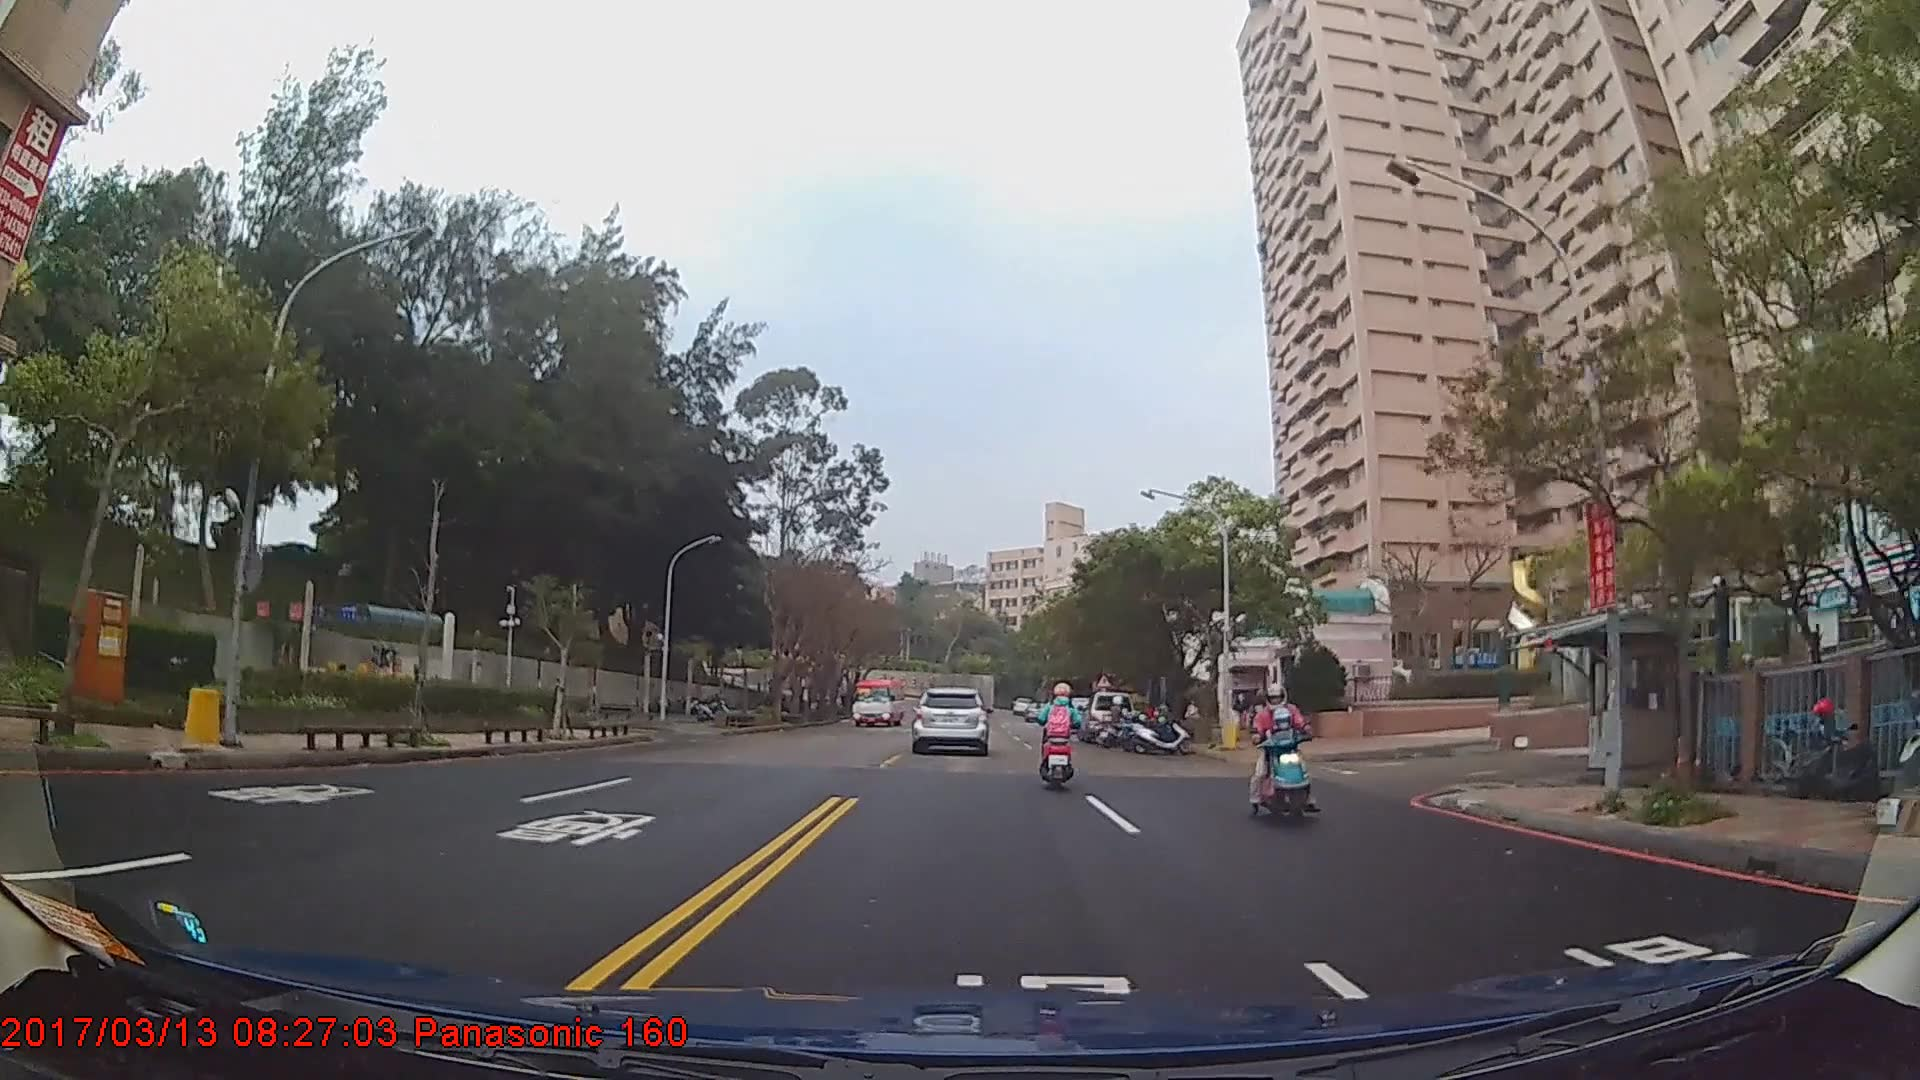rider: (1250, 686, 1317, 831), (1036, 673, 1080, 799), (1099, 696, 1136, 747)
vehicle: (910, 681, 988, 757), (849, 674, 903, 726), (1081, 688, 1134, 741)
